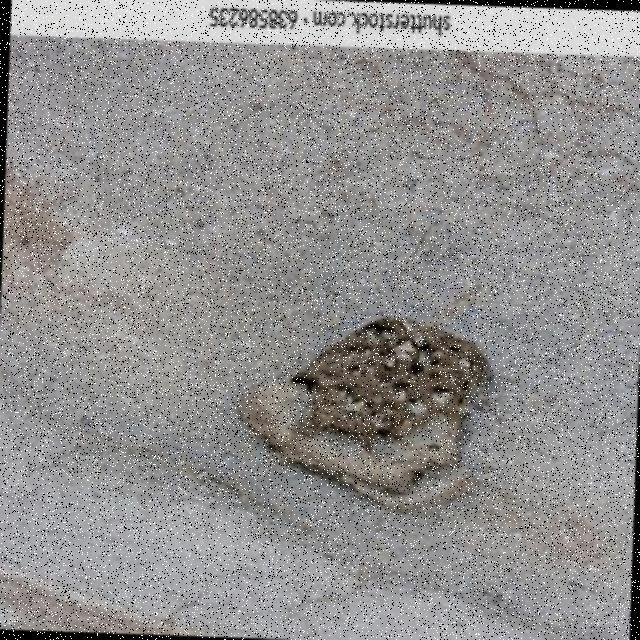Pothole: (238, 316, 491, 511)
